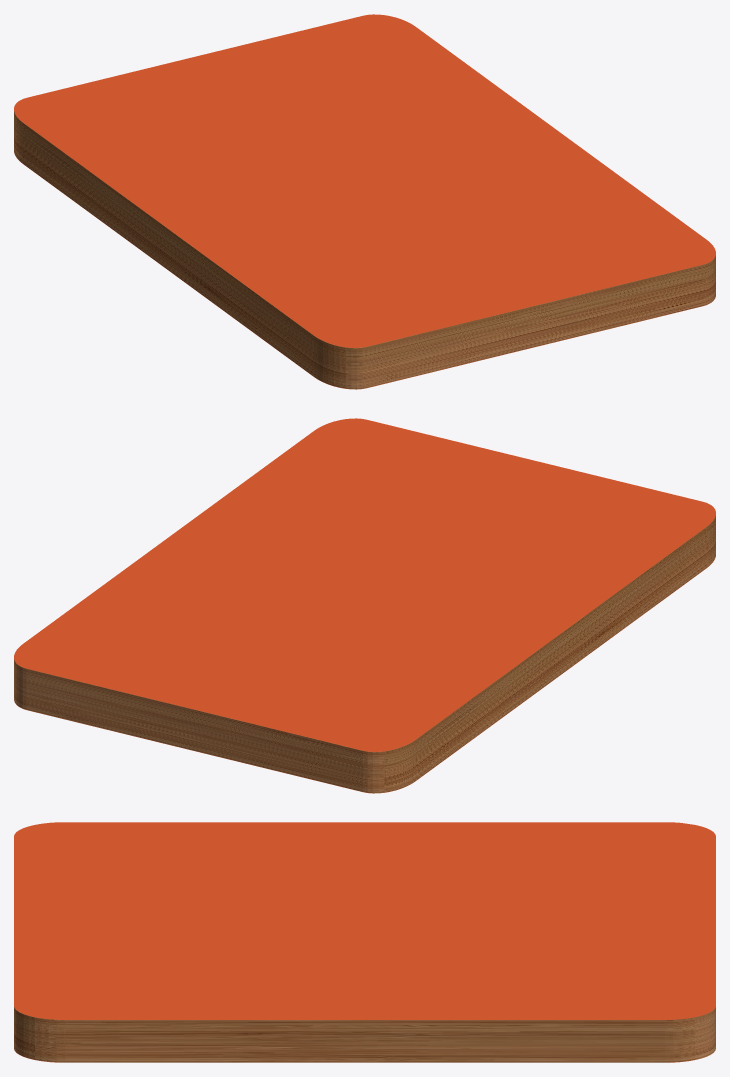
File: rect_cuttingboard.glb
3 renders of one model, top to bottom at view 1: azimuth 30°, elevation 25°; view 2: azimuth 150°, elevation 25°; view 3: azimuth 270°, elevation 25°, orthographic. The views are drawn at different scales.
Parts seen in each view (by area): view 1: Cube.001, Cube; view 2: Cube.001, Cube; view 3: Cube.001, Cube.
Boxes of the visible parts, box(x1,y1,x2,y2) form: Cube.001: box(14, 14, 715, 389); Cube: box(14, 111, 715, 389); Cube.001: box(14, 418, 715, 793); Cube: box(14, 515, 715, 793); Cube.001: box(14, 822, 715, 1062); Cube: box(14, 1006, 715, 1062).
Size of the model in its own units: 2 by 0.202 by 3.
2 materials, 1 textured.
